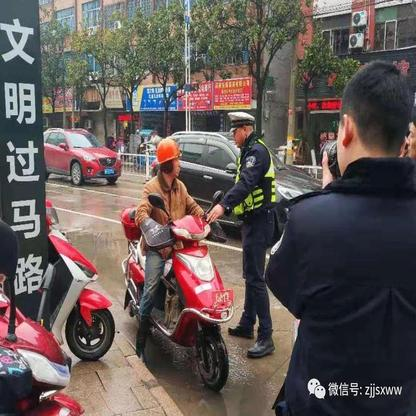target: (120, 136, 236, 394)
